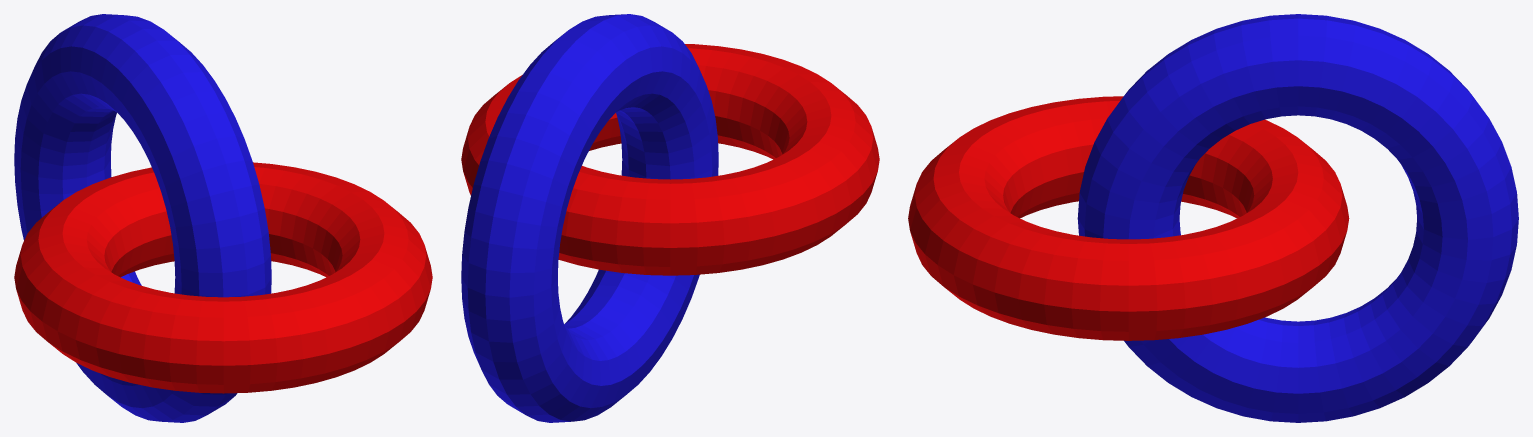
Rendered from TwoToruses.gltf.
The picture shows the model from 3 angles, left to right: view 1: azimuth 30°, elevation 25°; view 2: azimuth 150°, elevation 25°; view 3: azimuth 270°, elevation 25°; orthographic projection. The views are drawn at different scales.
Visible parts, largest first — view 1: Torus.001, Torus.002; view 2: Torus.002, Torus.001; view 3: Torus.002, Torus.001.
Boxes of the visible parts, bbox=[...] form: Torus.001: bbox=[14, 162, 432, 393]; Torus.002: bbox=[14, 14, 271, 422]; Torus.002: bbox=[461, 14, 718, 422]; Torus.001: bbox=[461, 44, 879, 275]; Torus.002: bbox=[1077, 14, 1518, 422]; Torus.001: bbox=[908, 96, 1349, 340].
Size of the model in its own units: 2.6 by 2.6 by 3.6.
